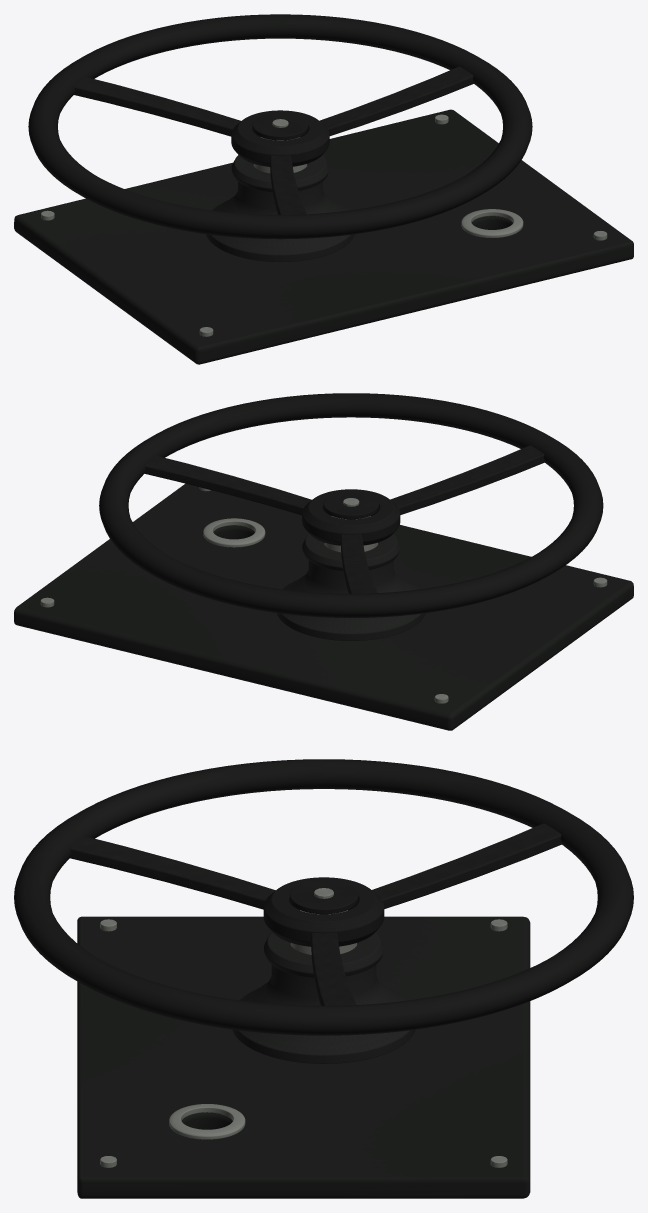
File: controller_handwheel_refined.glb
The picture shows the model from 3 angles, top to bottom: view 1: azimuth 30°, elevation 25°; view 2: azimuth 150°, elevation 25°; view 3: azimuth 270°, elevation 25°; orthographic projection. The views are drawn at different scales.
Visible parts, largest first — view 1: Fixed_Mounting_Plate, Moving_Handwheel_Rim, Fixed_Pedestal, Moving_Spoke_2, Moving_Hub, Moving_Spoke_1, Fixed_Shaft_Collar, Moving_Spoke_3, Moving_Center_Cap, Fixed_Socket_Ring; view 2: Fixed_Mounting_Plate, Moving_Handwheel_Rim, Fixed_Pedestal, Moving_Spoke_1, Moving_Hub, Moving_Spoke_3, Fixed_Shaft_Collar, Moving_Spoke_2, Moving_Center_Cap, Fixed_Socket_Ring; view 3: Fixed_Mounting_Plate, Moving_Handwheel_Rim, Fixed_Pedestal, Moving_Spoke_3, Moving_Hub, Moving_Spoke_2, Fixed_Shaft_Collar, Moving_Spoke_1, Moving_Center_Cap, Fixed_Socket_Ring.
Boxes of the visible parts, bbox=[...] form: Fixed_Mounting_Plate: bbox=[14, 109, 633, 364]; Moving_Handwheel_Rim: bbox=[28, 14, 532, 239]; Fixed_Pedestal: bbox=[206, 181, 354, 262]; Moving_Spoke_2: bbox=[73, 77, 240, 136]; Moving_Hub: bbox=[231, 110, 329, 166]; Moving_Spoke_1: bbox=[319, 66, 473, 135]; Fixed_Shaft_Collar: bbox=[231, 155, 329, 192]; Moving_Spoke_3: bbox=[270, 155, 306, 214]; Moving_Center_Cap: bbox=[252, 113, 308, 140]; Fixed_Socket_Ring: bbox=[461, 209, 523, 237]; Fixed_Mounting_Plate: bbox=[14, 483, 633, 730]; Moving_Handwheel_Rim: bbox=[99, 393, 603, 617]; Fixed_Pedestal: bbox=[276, 560, 425, 640]; Moving_Spoke_1: bbox=[144, 455, 311, 515]; Moving_Hub: bbox=[302, 489, 400, 545]; Moving_Spoke_3: bbox=[390, 445, 544, 514]; Fixed_Shaft_Collar: bbox=[302, 534, 400, 570]; Moving_Spoke_2: bbox=[340, 534, 377, 593]; Moving_Center_Cap: bbox=[323, 492, 378, 519]; Fixed_Socket_Ring: bbox=[203, 518, 265, 547]; Fixed_Mounting_Plate: bbox=[77, 916, 530, 1198]; Moving_Handwheel_Rim: bbox=[14, 759, 633, 1035]; Fixed_Pedestal: bbox=[232, 965, 415, 1063]; Moving_Spoke_3: bbox=[69, 836, 275, 909]; Moving_Hub: bbox=[263, 877, 384, 946]; Moving_Spoke_2: bbox=[372, 823, 561, 908]; Fixed_Shaft_Collar: bbox=[264, 932, 383, 977]; Moving_Spoke_1: bbox=[311, 933, 356, 1005]; Moving_Center_Cap: bbox=[289, 880, 358, 914]; Fixed_Socket_Ring: bbox=[169, 1104, 245, 1139].
Bounding box in the file's own units: 0.334 × 0.089 × 0.308.
5 materials, 4 textured.
